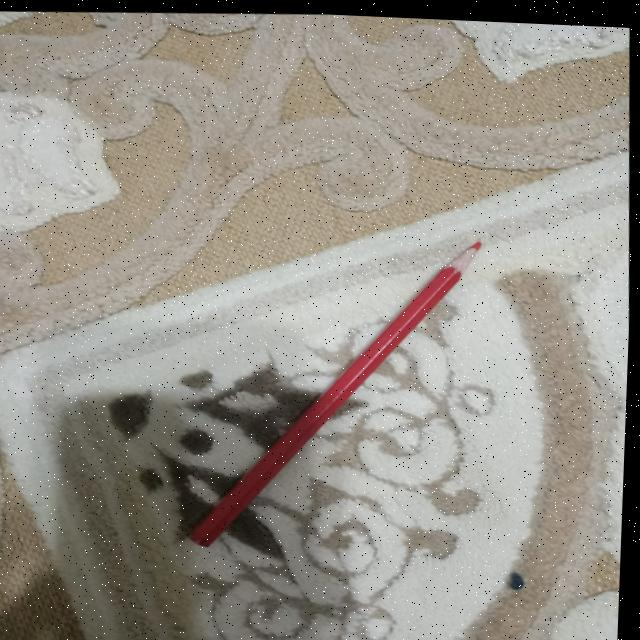pencil: (194, 237, 481, 544)
